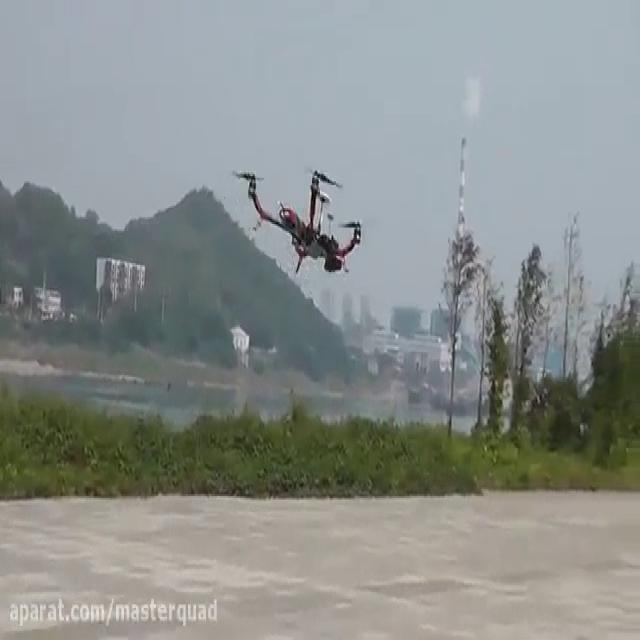drone: (229, 158, 364, 276)
